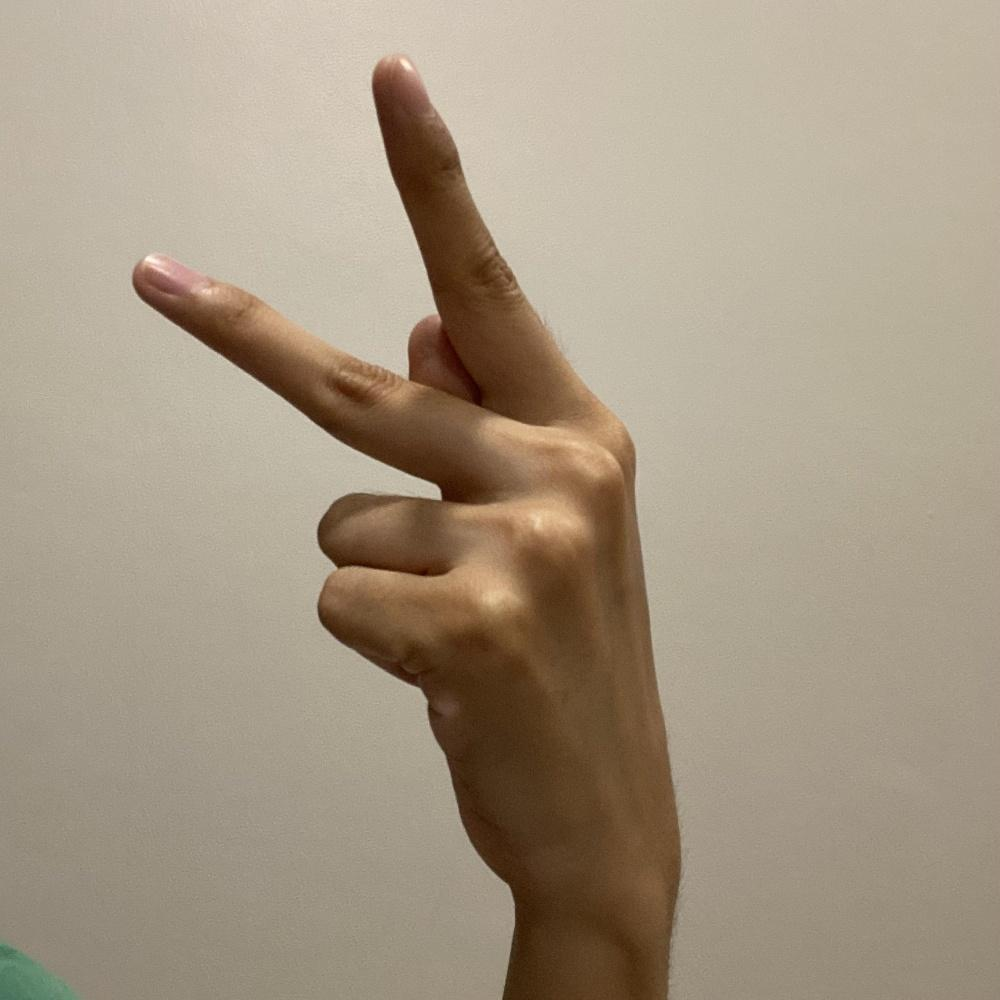k: (124, 46, 687, 898)
